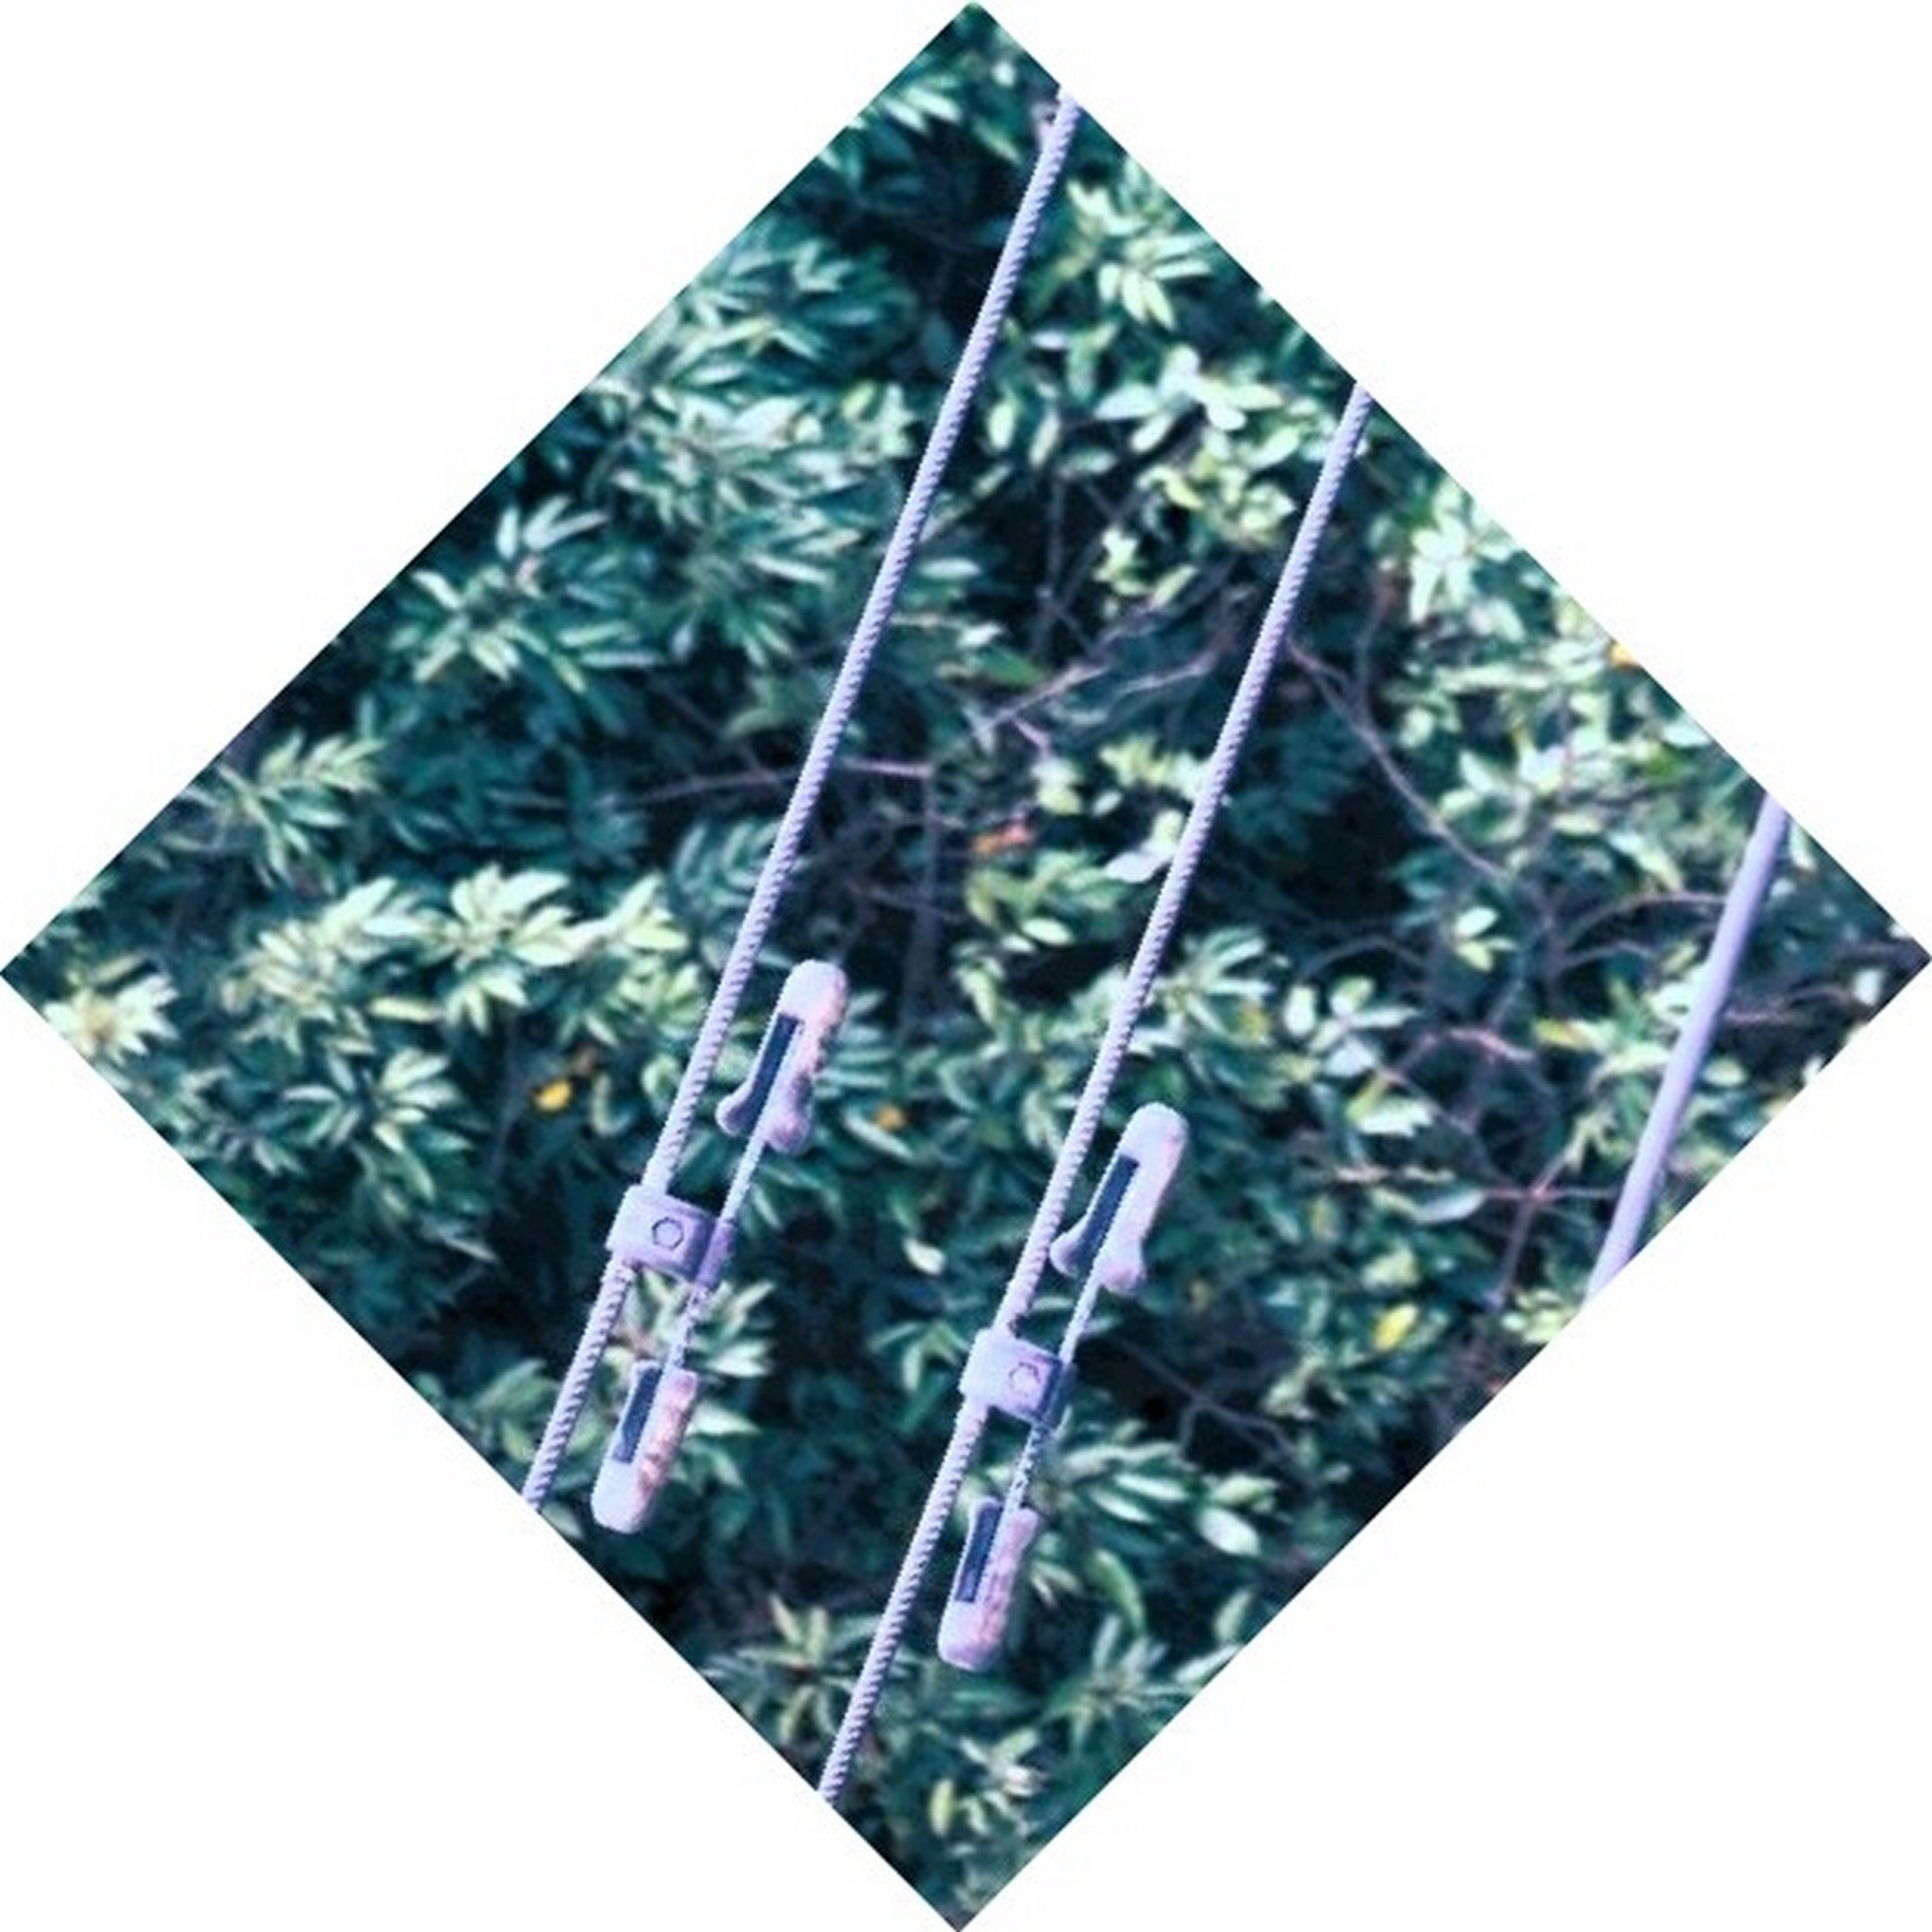Shockproof hammer: (533, 922, 893, 1541), (899, 1093, 1249, 1716)
